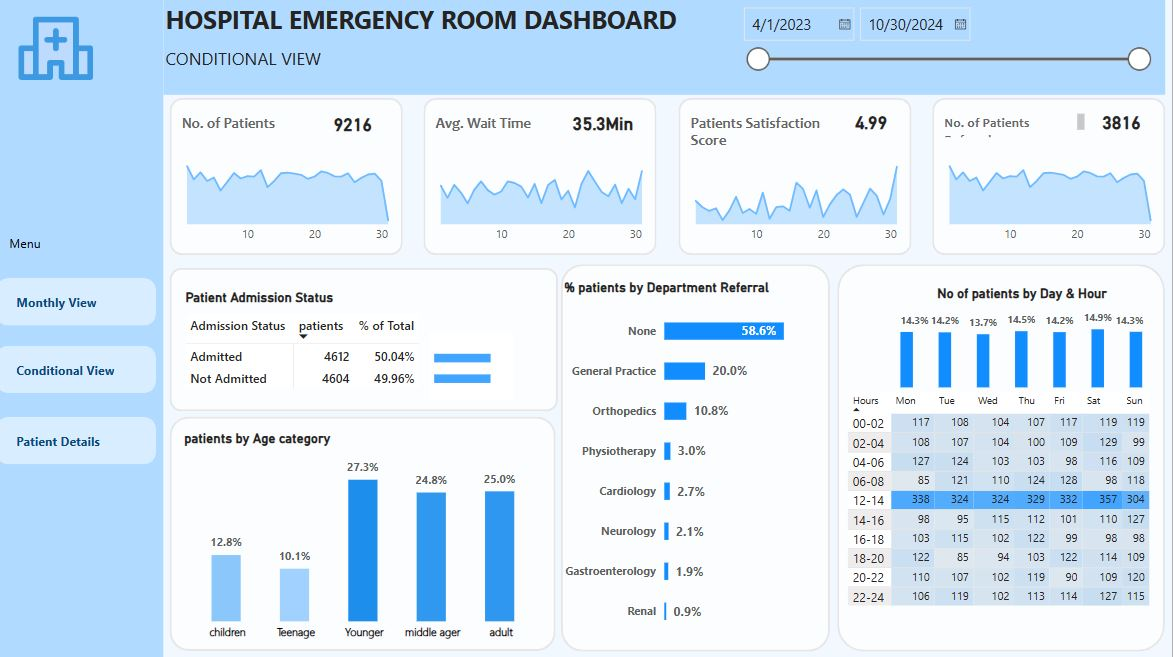

Layout of this report page (visuals, bound fields, positions):
{"tool":"powerbi","page":{"name":"CONDITIONAL VIEW","canvas":[1280,720],"ordinal":1},"visuals":[{"type":"shape","box":[182.2,0,1090.3,105.4],"z":0},{"type":"textbox","box":[179.5,0,1242.5,48.1],"z":1000},{"type":"textbox","box":[179.5,48.1,303.2,57.2],"z":2000},{"type":"shape","box":[188.7,109.3,253.9,171.3],"z":2000,"group":"g6"},{"type":"shape","box":[465.4,109.3,253.9,171.3],"z":2000,"group":"g7"},{"type":"shape","box":[742,109.3,253.9,171.3],"z":2000,"group":"g8"},{"type":"shape","box":[1018.7,109.5,253.9,171.3],"z":2000,"group":"g9"},{"type":"group","id":"g1","title":"Group 3","box":[188.7,455.4,420.2,253.7],"z":3000},{"type":"group","id":"g2","title":"Group 5","box":[614.1,290.1,294,421.6],"z":4000},{"type":"shape","box":[0,0,182.2,719.5],"z":5000},{"type":"card","fields":{"Values":["Hospital ER_Data.Avg. Wait time"]},"box":[614.6,117.1,91.7,40.3],"z":6000,"group":"g7"},{"type":"card","fields":{"Values":["Hospital ER_Data.Avg Satisfaction Score"]},"box":[915.9,117.1,71,39],"z":6000,"group":"g8"},{"type":"card","fields":{"Values":["Hospital ER_Data.No of patients"]},"box":[349.6,121,77.5,33.8],"z":6000,"group":"g6"},{"type":"card","fields":{"Values":["Hospital ER_Data.No.of patientsReferral"]},"box":[1186.1,121,77.5,33.8],"z":6000,"group":"g9"},{"type":"group","id":"g3","title":"Group 7","box":[188.7,294,422.9,156.1],"z":6000},{"type":"group","id":"g4","title":"Group 1","box":[916,290.1,356.5,421.6],"z":7000},{"type":"group","id":"g5","title":"Group 2","box":[188.7,109.3,1083.8,171.7],"z":8000},{"type":"textbox","box":[750.5,121,161.5,59.8],"z":8000,"group":"g8"},{"type":"textbox","box":[197.2,122,162.4,35.2],"z":8000,"group":"g6"},{"type":"textbox","box":[473.9,122,162.4,35.2],"z":8000,"group":"g7"},{"type":"textbox","box":[1027.2,122.2,162.4,35.2],"z":8000,"group":"g9"},{"type":"actionButton","box":[0,304.5,174.3,52],"z":9000},{"type":"areaChart","fields":{"Y":["Hospital ER_Data.No of patients"],"Category":["Data Table.Date.Variation.Date Hierarchy.Day"]},"box":[192.3,164.8,242,111],"z":10000,"group":"g6"},{"type":"areaChart","fields":{"Category":["Data Table.Date.Variation.Date Hierarchy.Day"],"Y":["Avg(Hospital ER_Data.Patient Waittime)"]},"box":[469,164.8,242,111],"z":10000,"group":"g7"},{"type":"areaChart","fields":{"Category":["Data Table.Date.Variation.Date Hierarchy.Day"],"Y":["Avg(Hospital ER_Data.Patient Satisfaction Score)"]},"box":[745.6,164.8,242,111],"z":10000,"group":"g8"},{"type":"areaChart","fields":{"Y":["Hospital ER_Data.No of patients"],"Category":["Data Table.Date.Variation.Date Hierarchy.Day"]},"box":[1022.3,165,242,111],"z":10000,"group":"g9"},{"type":"actionButton","box":[0,378.6,174.3,52],"z":10000},{"type":"shape","box":[916,290.1,356.5,421.6],"z":11000,"group":"g4"},{"type":"actionButton","box":[0,455.4,174.3,52],"z":11000},{"type":"group","id":"g6","title":"Group 6","box":[188.7,109.3,253.9,171.3],"z":12000,"group":"g5"},{"type":"textbox","box":[9.1,252.4,70.3,37.7],"z":12000},{"type":"shape","box":[188.7,294,422.9,156.1],"z":12000,"group":"g3"},{"type":"clusteredColumnChart","title":"No of patients by Day & Hour","fields":{"Y":["Hospital ER_Data.No of patients"],"Category":["Hospital ER_Data.day name short"]},"box":[979.9,313.5,274.5,117.1],"z":12000,"group":"g4"},{"type":"slicer","fields":{"Values":["Hospital ER_Data.Patient admit date"]},"box":[801.5,0,464.5,85.9],"z":13000},{"type":"pivotTable","title":"Patient Admission Status","fields":{"Rows":["Hospital ER_Data.Admission Status"],"Values":["Hospital ER_Data.No of patients","Divide(Hospital ER_Data.No of patients, ScopedEval(Hospital ER_Data.No of patients, []))"]},"box":[200.8,317.4,278.8,124.9],"z":13000,"group":"g3"},{"type":"image","box":[9.7,0,111,109.8],"z":14000},{"type":"group","id":"g7","title":"Group 6","box":[465.4,109.3,253.9,171.3],"z":14000,"group":"g5"},{"type":"barChart","fields":{"Category":["Hospital ER_Data.Admission Status"],"Y":["Hospital ER_Data.No of patients"]},"box":[472.2,363.6,90.1,74.2],"z":14000,"group":"g3"},{"type":"pivotTable","fields":{"Rows":["Hospital ER_Data.hour grp"],"Columns":["Hospital ER_Data.day name short"],"Values":["Hospital ER_Data.No of patients"]},"box":[922.7,425.3,342.2,277.1],"z":14000,"group":"g4"},{"type":"group","id":"g8","title":"Group 6","box":[742,109.3,253.9,171.3],"z":15000,"group":"g5"},{"type":"group","id":"g9","title":"Group 6","box":[1018.7,109.5,253.9,171.3],"z":16000,"group":"g5"},{"type":"shape","box":[188.7,455.4,420.2,255],"z":17000,"group":"g1"},{"type":"clusteredColumnChart","title":"patients by Age category","fields":{"Category":["Hospital ER_Data.Age category"],"Y":["Hospital ER_Data.No of patients"]},"box":[199,470.9,402.3,237.9],"z":18000,"group":"g1"},{"type":"shape","box":[615.2,290.1,292.7,421.6],"z":20000,"group":"g2"},{"type":"barChart","title":"% patients by Department Referral","fields":{"Y":["Hospital ER_Data.No of patients"],"Category":["Hospital ER_Data.Department Referral"]},"box":[614.1,307.1,286,394.7],"z":21000,"group":"g2"}]}

Visuals, with their boxes in screenshot pixels (x1, y1, x2, y2), scaled from the page's 1280x720 canvas onto the 1175x657 screenshot:
shape: locate(167, 0, 1168, 96)
textbox: locate(165, 0, 1174, 44)
textbox: locate(165, 44, 443, 96)
shape: locate(173, 100, 406, 256)
shape: locate(427, 100, 660, 256)
shape: locate(681, 100, 914, 256)
shape: locate(935, 100, 1168, 256)
"Group 3" group: locate(173, 416, 559, 647)
"Group 5" group: locate(564, 265, 834, 649)
shape: locate(0, 0, 167, 656)
card - Hospital ER_Data.Avg. Wait time: locate(564, 107, 648, 144)
card - Hospital ER_Data.Avg Satisfaction Score: locate(841, 107, 906, 142)
card - Hospital ER_Data.No of patients: locate(321, 110, 392, 141)
card - Hospital ER_Data.No.of patientsReferral: locate(1089, 110, 1160, 141)
"Group 7" group: locate(173, 268, 561, 411)
"Group 1" group: locate(841, 265, 1168, 649)
"Group 2" group: locate(173, 100, 1168, 256)
textbox: locate(689, 110, 837, 165)
textbox: locate(181, 111, 330, 143)
textbox: locate(435, 111, 584, 143)
textbox: locate(943, 112, 1092, 144)
actionButton: locate(0, 278, 160, 325)
areaChart - Hospital ER_Data.No of patients x Data Table.Date.Variation.Date Hierarchy.Day: locate(177, 150, 399, 252)
areaChart - Data Table.Date.Variation.Date Hierarchy.Day x Avg(Hospital ER_Data.Patient Waittime): locate(431, 150, 653, 252)
areaChart - Data Table.Date.Variation.Date Hierarchy.Day x Avg(Hospital ER_Data.Patient Satisfaction Score): locate(684, 150, 907, 252)
areaChart - Hospital ER_Data.No of patients x Data Table.Date.Variation.Date Hierarchy.Day: locate(938, 151, 1161, 252)
actionButton: locate(0, 345, 160, 393)
shape: locate(841, 265, 1168, 649)
actionButton: locate(0, 416, 160, 463)
"Group 6" group: locate(173, 100, 406, 256)
textbox: locate(8, 230, 73, 265)
shape: locate(173, 268, 561, 411)
"No of patients by Day & Hour" clusteredColumnChart: locate(900, 286, 1152, 393)
slicer - Hospital ER_Data.Patient admit date: locate(736, 0, 1162, 78)
"Patient Admission Status" pivotTable: locate(184, 290, 440, 404)
image: locate(9, 0, 111, 100)
"Group 6" group: locate(427, 100, 660, 256)
barChart - Hospital ER_Data.Admission Status x Hospital ER_Data.No of patients: locate(433, 332, 516, 399)
pivotTable - Hospital ER_Data.hour grp x Hospital ER_Data.day name short: locate(847, 388, 1161, 641)
"Group 6" group: locate(681, 100, 914, 256)
"Group 6" group: locate(935, 100, 1168, 256)
shape: locate(173, 416, 559, 648)
"patients by Age category" clusteredColumnChart: locate(183, 430, 552, 647)
shape: locate(565, 265, 833, 649)
"% patients by Department Referral" barChart: locate(564, 280, 826, 640)
